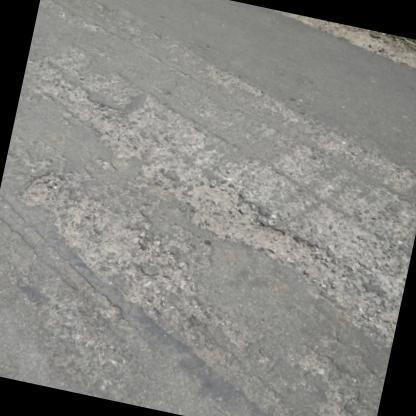pothole: (164, 168, 396, 342), (22, 165, 190, 318)
